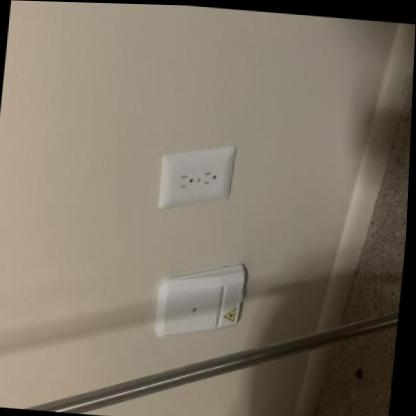OUTLET: (158, 138, 234, 207)
